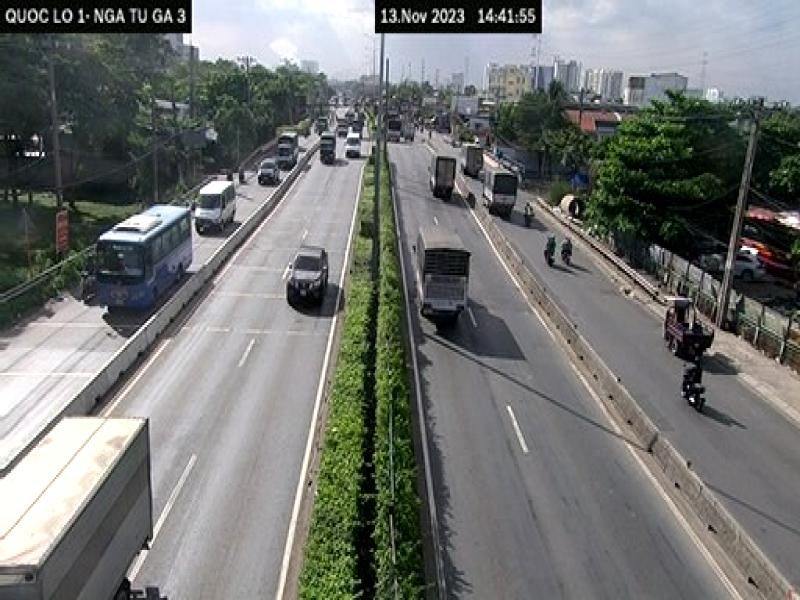bus: (93, 198, 197, 315)
truck: (414, 219, 473, 318)
